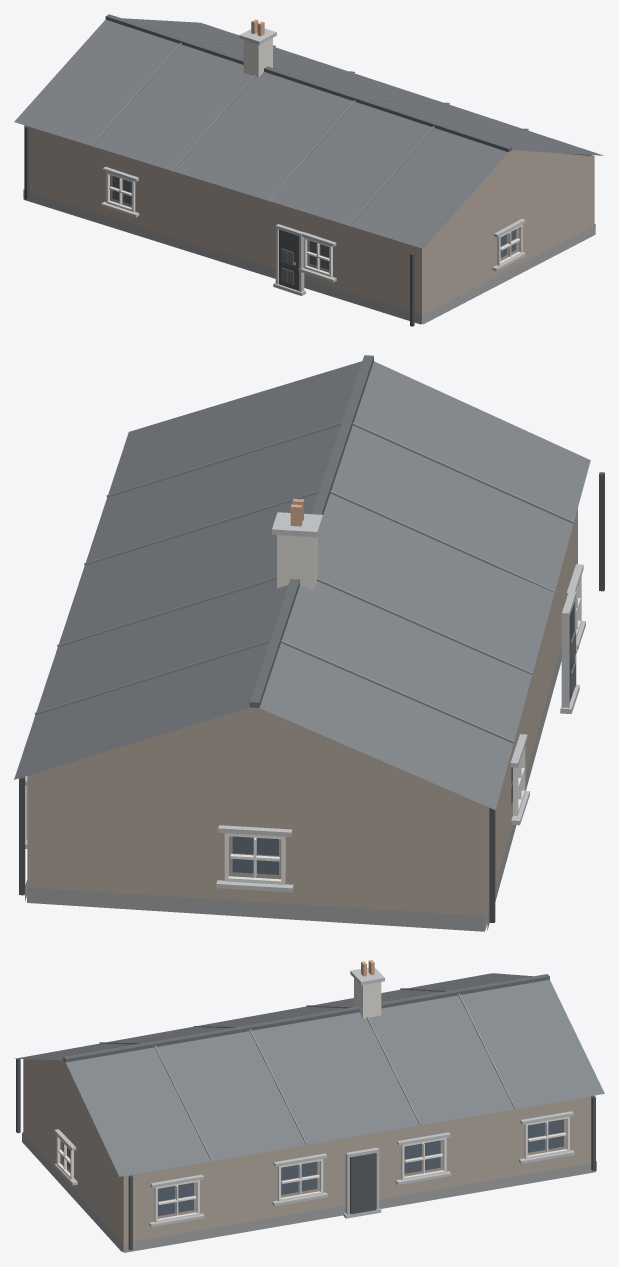
The picture shows the model from 3 angles, top to bottom: view 1: azimuth 30°, elevation 25°; view 2: azimuth 150°, elevation 25°; view 3: azimuth 270°, elevation 25°; orthographic projection. The views are drawn at different scales.
Visible parts, largest first — view 1: slate, harl_brown, plinth, slate_dk, stone_band, slate_lt, frame, chim_render, door_dark, pipe; view 2: slate, harl_brown, plinth, slate_lt, stone_band, slate_dk, frame, pipe, chim_render; view 3: slate, harl_brown, plinth, stone_band, frame, slate_dk, slate_lt, door_dark, pipe, chim_render.
Part boxes in pixels (bbox=[...]): slate: bbox=[14, 18, 604, 248]; harl_brown: bbox=[24, 125, 594, 323]; plinth: bbox=[23, 189, 595, 324]; slate_dk: bbox=[105, 14, 512, 152]; stone_band: bbox=[101, 28, 525, 295]; slate_lt: bbox=[91, 41, 528, 225]; frame: bbox=[106, 172, 522, 276]; chim_render: bbox=[243, 38, 272, 77]; door_dark: bbox=[279, 229, 299, 290]; pipe: bbox=[24, 126, 414, 326]; slate: bbox=[14, 361, 590, 809]; harl_brown: bbox=[27, 508, 577, 930]; plinth: bbox=[25, 646, 561, 931]; slate_lt: bbox=[34, 422, 573, 743]; stone_band: bbox=[25, 512, 585, 892]; slate_dk: bbox=[249, 355, 373, 707]; frame: bbox=[25, 576, 581, 884]; pipe: bbox=[19, 472, 604, 922]; chim_render: bbox=[277, 535, 317, 590]; slate: bbox=[14, 973, 604, 1176]; harl_brown: bbox=[23, 1059, 595, 1252]; plinth: bbox=[22, 1132, 596, 1252]; stone_band: bbox=[54, 967, 574, 1227]; frame: bbox=[56, 1116, 569, 1222]; slate_dk: bbox=[63, 974, 549, 1062]; slate_lt: bbox=[99, 988, 515, 1160]; door_dark: bbox=[350, 1153, 375, 1214]; pipe: bbox=[16, 1059, 595, 1250]; chim_render: bbox=[354, 978, 381, 1018].
Bounding box in the file's own units: 15.65 × 6.54 × 19.18.
